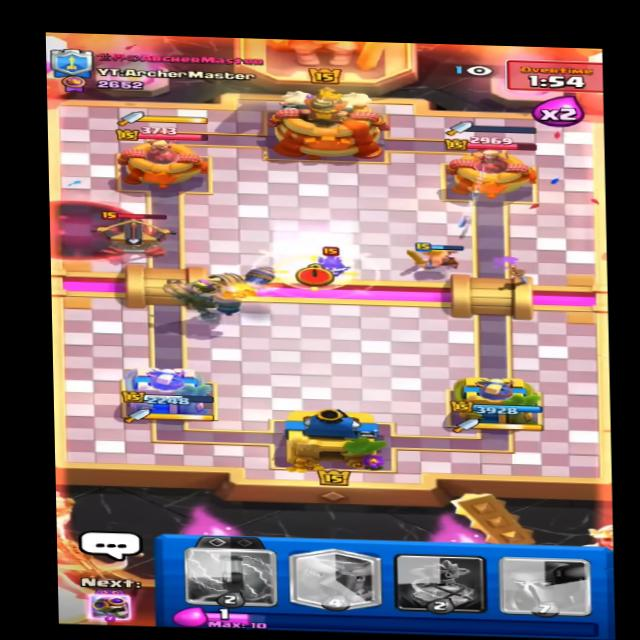electro-spirit: (305, 247, 348, 277)
x-bow: (91, 206, 182, 262)
